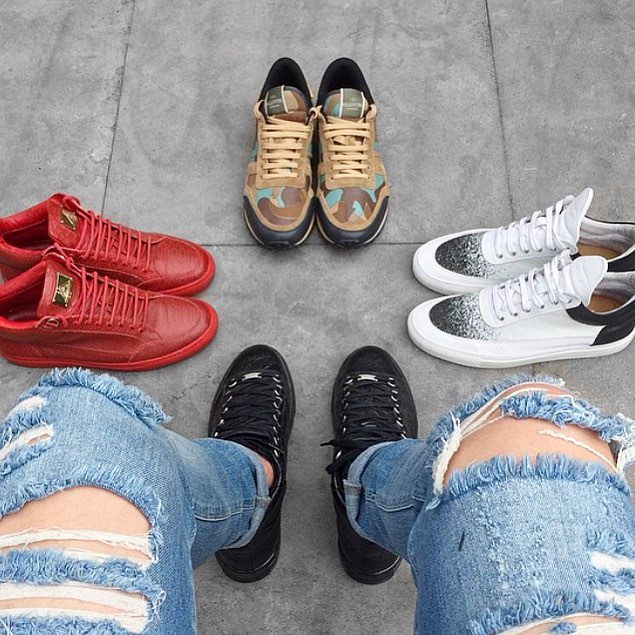sneaker: (190, 322, 311, 592), (311, 321, 431, 592)
